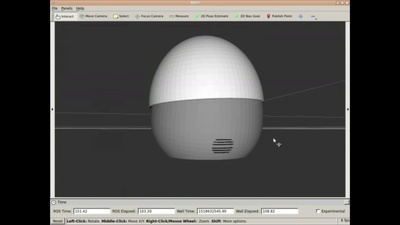mira_robot: (149, 35, 264, 161)
